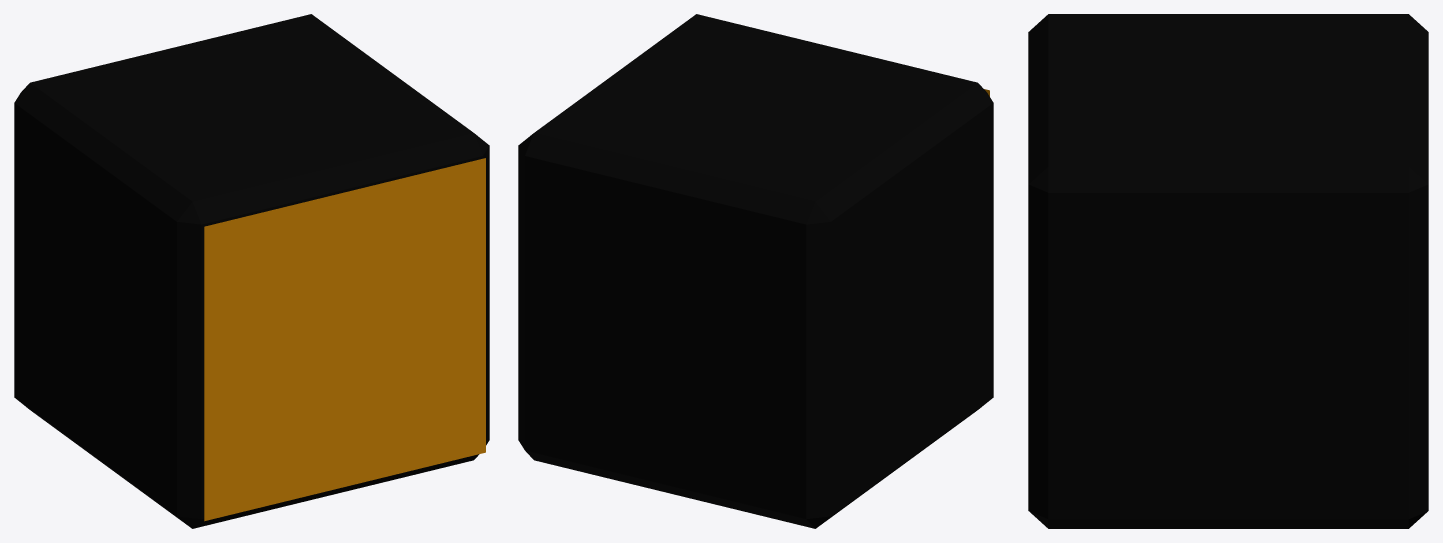
The model's file is rubic15.obj.
3 renders of one model, left to right at view 1: azimuth 30°, elevation 25°; view 2: azimuth 150°, elevation 25°; view 3: azimuth 270°, elevation 25°, orthographic. The views are drawn at different scales.
Visible parts, largest first — view 1: Cube.015_Cube.016; view 2: Cube.015_Cube.016; view 3: Cube.015_Cube.016.
Part boxes in pixels (box(x1,y1,x2,y2)): Cube.015_Cube.016: box(14, 14, 489, 528); Cube.015_Cube.016: box(518, 14, 993, 528); Cube.015_Cube.016: box(1028, 14, 1428, 528).
Bounding box in the file's own units: 2 × 2 × 2.03.
